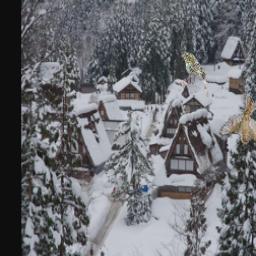Sparrow: (218, 96, 256, 152), (181, 53, 209, 99)
